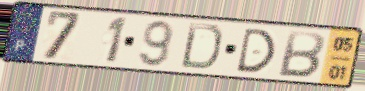1: (101, 15, 130, 65)
7: (44, 9, 85, 63)
9: (137, 19, 177, 69)
B: (275, 29, 327, 80)
D: (177, 21, 224, 72), (234, 27, 278, 74)
